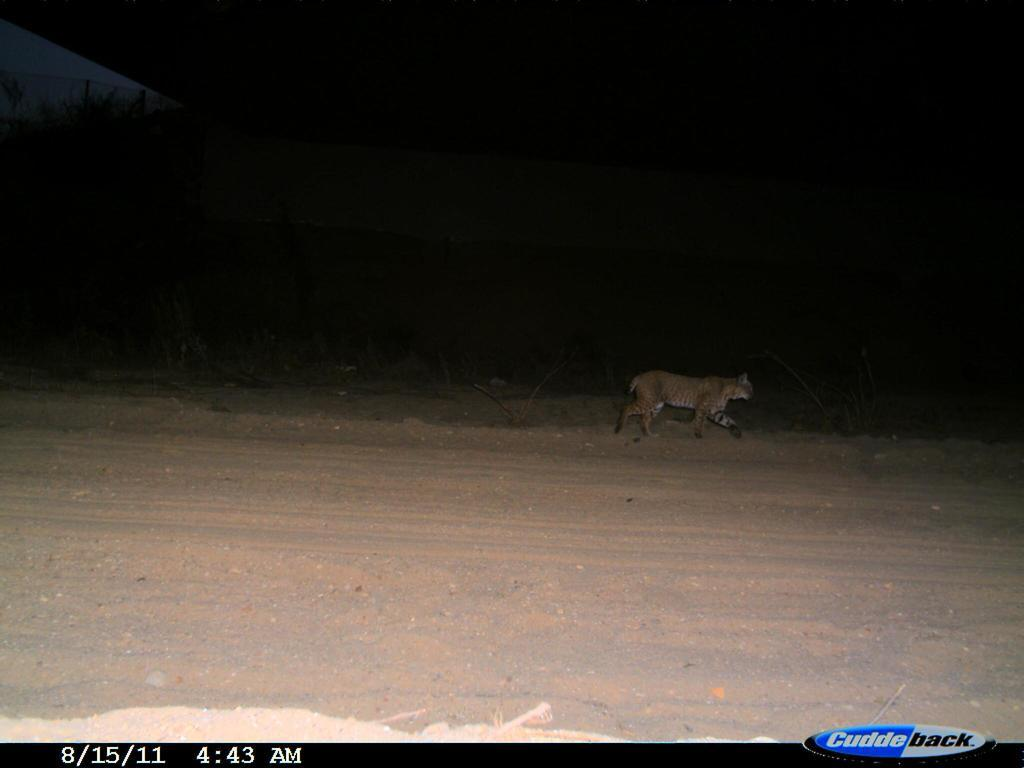bobcat: (614, 369, 766, 441)
